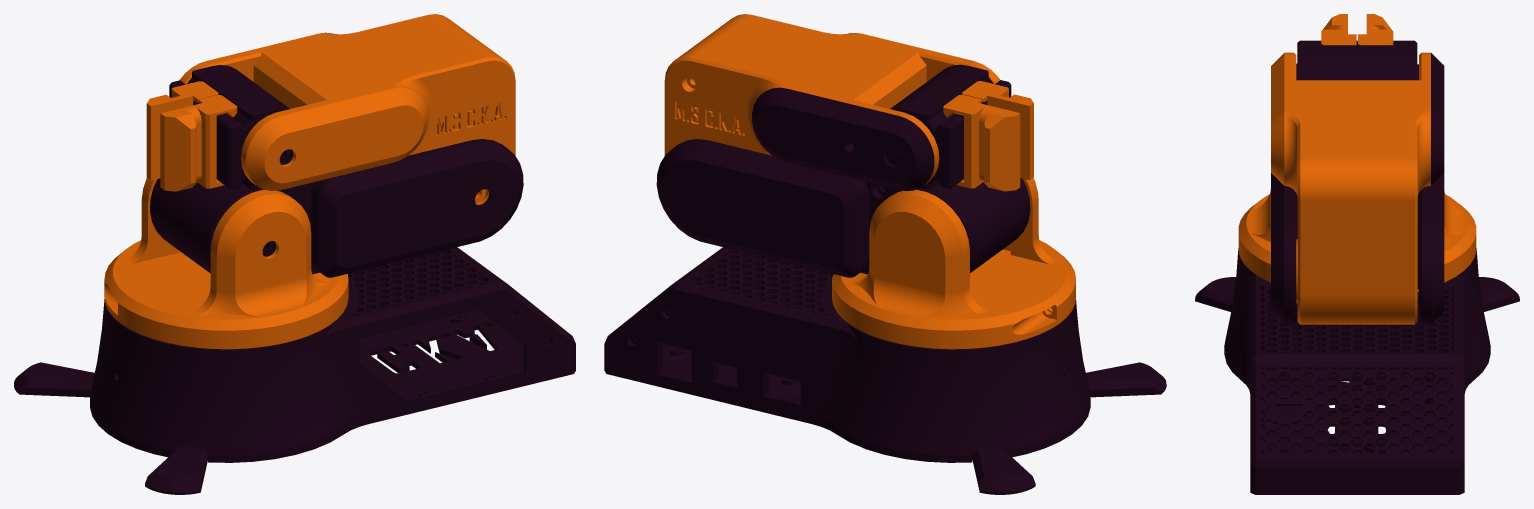
Rendered from FinalForSim2.fbx.
The picture shows the model from 3 angles, left to right: view 1: azimuth 30°, elevation 25°; view 2: azimuth 150°, elevation 25°; view 3: azimuth 270°, elevation 25°; orthographic projection. The views are drawn at different scales.
Visible parts, largest first — view 1: Base, Wrist, Base Arm, Arm, Compact Servo Robot - FUSION FILES v1.018, Gripper Controller, Compact Servo Robot - FUSION FILES v1.017, Compact Servo Robot - FUSION FILES v1.016; view 2: Base, Wrist, Base Arm, Arm, Compact Servo Robot - FUSION FILES v1.017, Gripper Controller, Compact Servo Robot - FUSION FILES v1.018, Compact Servo Robot - FUSION FILES v1.016; view 3: Base, Wrist, Arm, Gripper Controller, Base Arm, Compact Servo Robot - FUSION FILES v1.017, Compact Servo Robot - FUSION FILES v1.018.
Boxes of the visible parts, x1=… form: Base: x1=14, y1=247, x2=575, y2=494; Wrist: x1=180, y1=14, x2=515, y2=204; Base Arm: x1=104, y1=178, x2=348, y2=349; Arm: x1=150, y1=139, x2=523, y2=277; Compact Servo Robot - FUSION FILES v1.018: x1=160, y1=95, x2=237, y2=191; Gripper Controller: x1=173, y1=65, x2=293, y2=189; Compact Servo Robot - FUSION FILES v1.017: x1=146, y1=81, x2=218, y2=180; Compact Servo Robot - FUSION FILES v1.016: x1=169, y1=82, x2=232, y2=189; Base: x1=604, y1=247, x2=1166, y2=494; Wrist: x1=664, y1=14, x2=1000, y2=190; Base Arm: x1=832, y1=178, x2=1075, y2=349; Arm: x1=656, y1=139, x2=1030, y2=277; Compact Servo Robot - FUSION FILES v1.017: x1=943, y1=94, x2=1020, y2=191; Gripper Controller: x1=885, y1=64, x2=1007, y2=189; Compact Servo Robot - FUSION FILES v1.018: x1=962, y1=81, x2=1033, y2=180; Compact Servo Robot - FUSION FILES v1.016: x1=947, y1=82, x2=1011, y2=188; Base: x1=1195, y1=248, x2=1519, y2=494; Wrist: x1=1271, y1=52, x2=1444, y2=324; Arm: x1=1271, y1=173, x2=1444, y2=324; Gripper Controller: x1=1296, y1=41, x2=1418, y2=80; Base Arm: x1=1238, y1=189, x2=1476, y2=291; Compact Servo Robot - FUSION FILES v1.017: x1=1358, y1=14, x2=1393, y2=45; Compact Servo Robot - FUSION FILES v1.018: x1=1321, y1=14, x2=1356, y2=45.
Bounding box in the file's own units: 18696 × 12653 × 12192.
